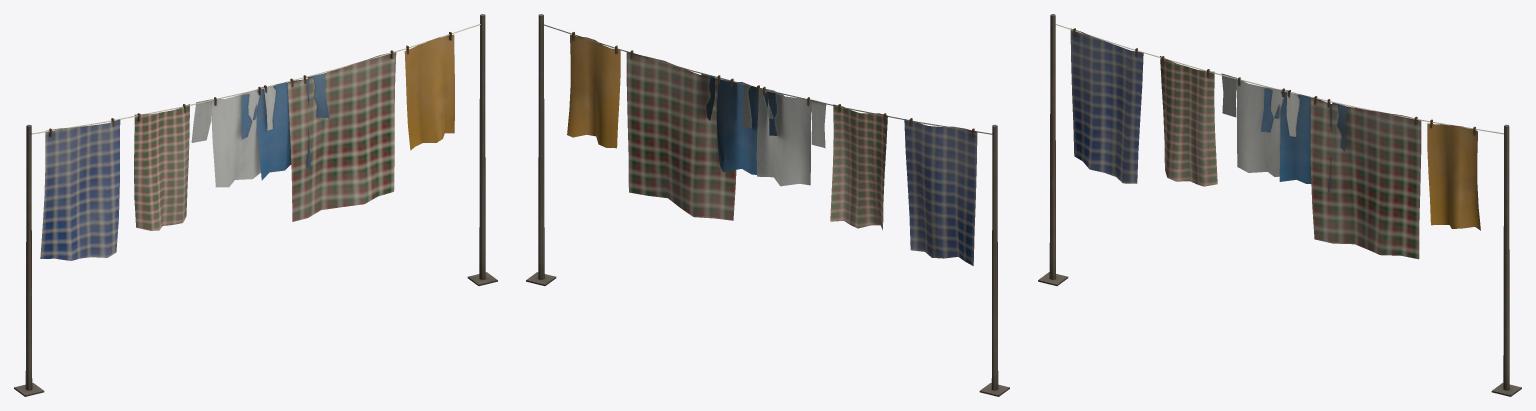
File: laundry.glb
3 renders of one model, left to right at view 1: azimuth 30°, elevation 25°; view 2: azimuth 150°, elevation 25°; view 3: azimuth 330°, elevation 25°, orthographic.
Visible parts, largest first — view 1: body; view 2: body; view 3: body.
Part boxes in pixels (box(x1,y1,x2,y2)): body: box(14, 14, 497, 396); body: box(526, 14, 1009, 396); body: box(1038, 14, 1521, 396).
Bounding box in the file's own units: 3.96 × 2.12 × 0.16.
1 material, 1 textured.
